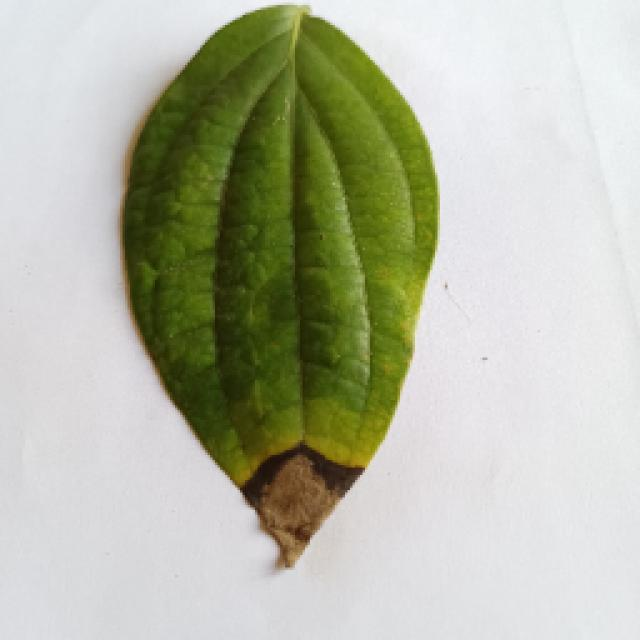footrot: (120, 2, 435, 552)
